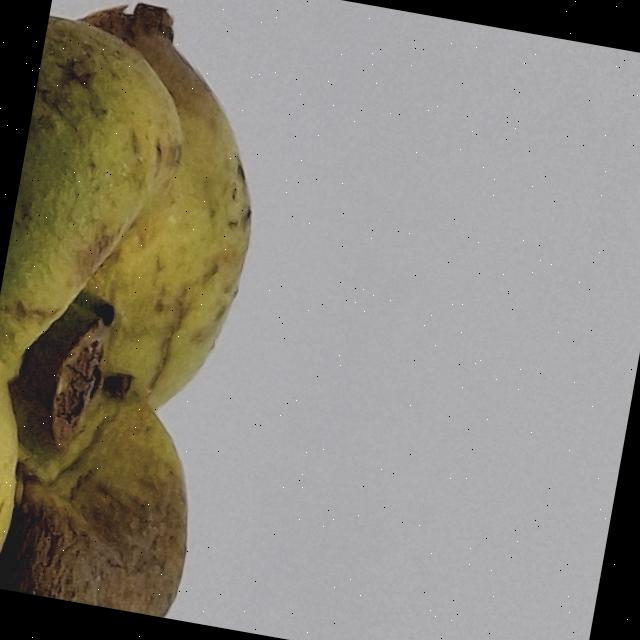mangosteen: (0, 0, 336, 628)
